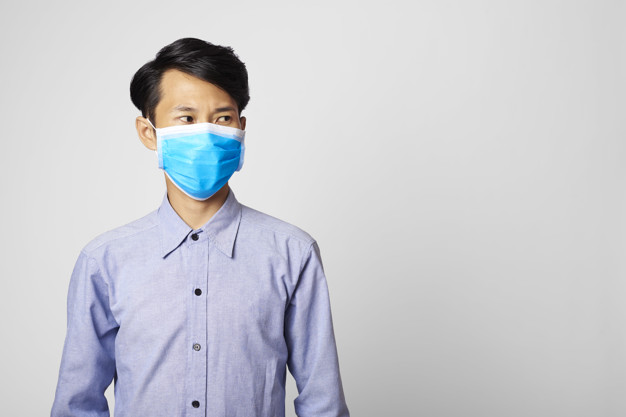with_mask: (115, 53, 281, 209)
